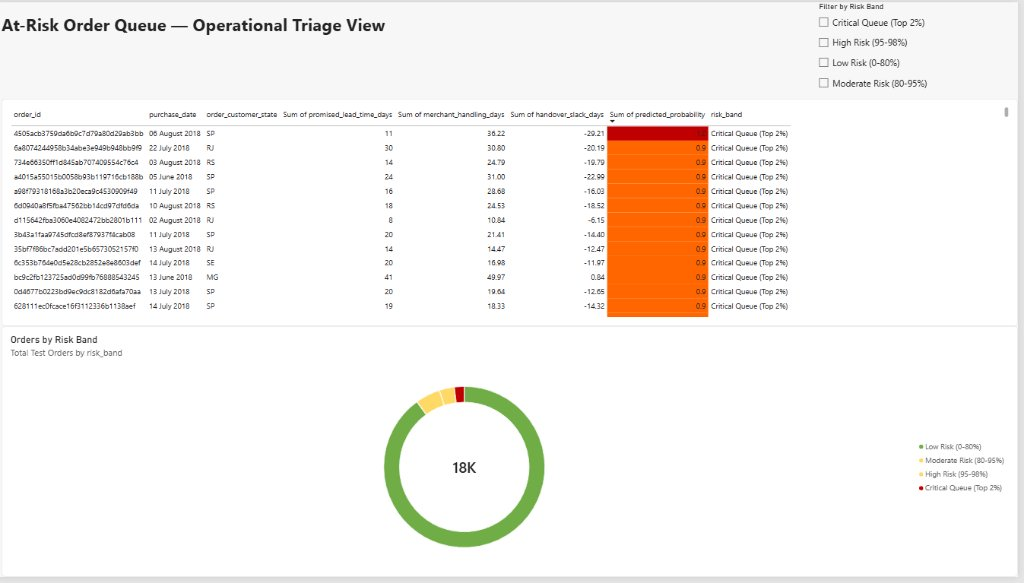

What the dashboard file says about the page in this screenshot:
{"tool":"powerbi","page":{"name":"3 - At-Risk Queue","canvas":[1920,1080],"ordinal":2},"visuals":[{"type":"textbox","box":[10.2,0,1528.6,181.6],"z":0},{"type":"slicer","fields":{"Values":["dim_risk_band.risk_band"]},"box":[1538.8,0,381.6,181.6],"z":1},{"type":"tableEx","fields":{"Values":["fact_model_scored_orders.order_id","fact_model_scored_orders.purchase_date","fact_model_scored_orders.order_customer_state","Sum(fact_model_scored_orders.promised_lead_time_days)","Sum(fact_model_scored_orders.merchant_handling_days)","Sum(fact_model_scored_orders.handover_slack_days)","Sum(fact_model_scored_orders.predicted_probability)","fact_model_scored_orders.risk_band"]},"box":[10.2,181.6,1910.2,426.5],"z":2},{"type":"donutChart","title":"Orders by Risk Band","fields":{"Category":["fact_model_scored_orders.risk_band"],"Y":["_Measures.Total Test Orders"]},"box":[10.2,608.2,1910.2,471.4],"z":3}]}

Visuals, with their boxes in screenshot pixels (x1, y1, x2, y2), scaled from the page's 1920x1080 canvas onto the 1024x583 screenshot:
textbox: [5, 0, 821, 98]
slicer - dim_risk_band.risk_band: [821, 0, 1023, 98]
tableEx - fact_model_scored_orders.order_id x fact_model_scored_orders.purchase_date: [5, 98, 1023, 328]
"Orders by Risk Band" donutChart: [5, 328, 1023, 582]
